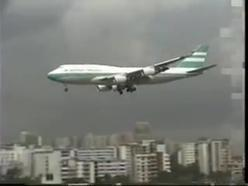aircraft: (48, 43, 217, 94)
